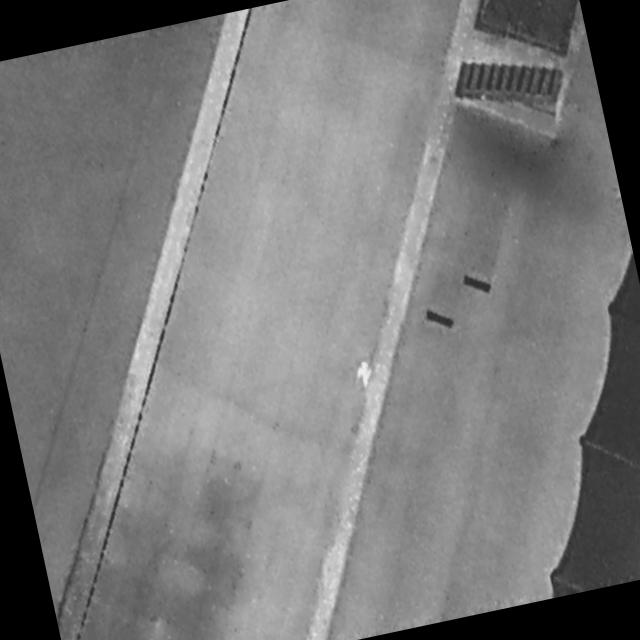person: (349, 355, 380, 395)
